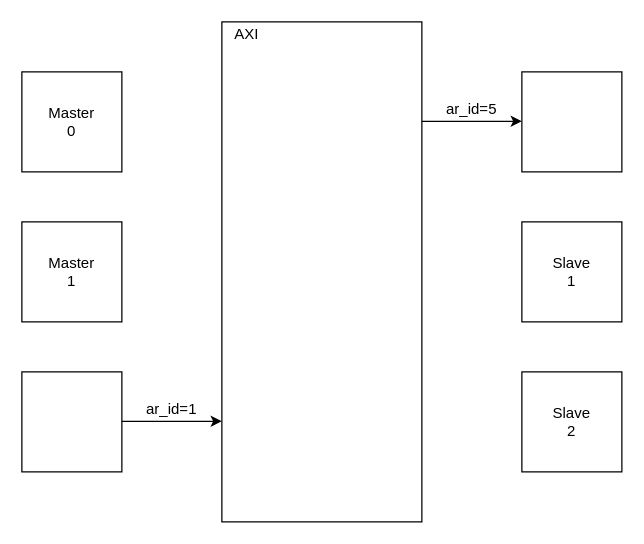
Image size: 644x544. Some labels were removed from this diagram. The shapes that lost their labels are listed below. From the top down, each one's centre as x and y in pixels, then its label:
[571,121]: Slave 0
[71,421]: Master 2
